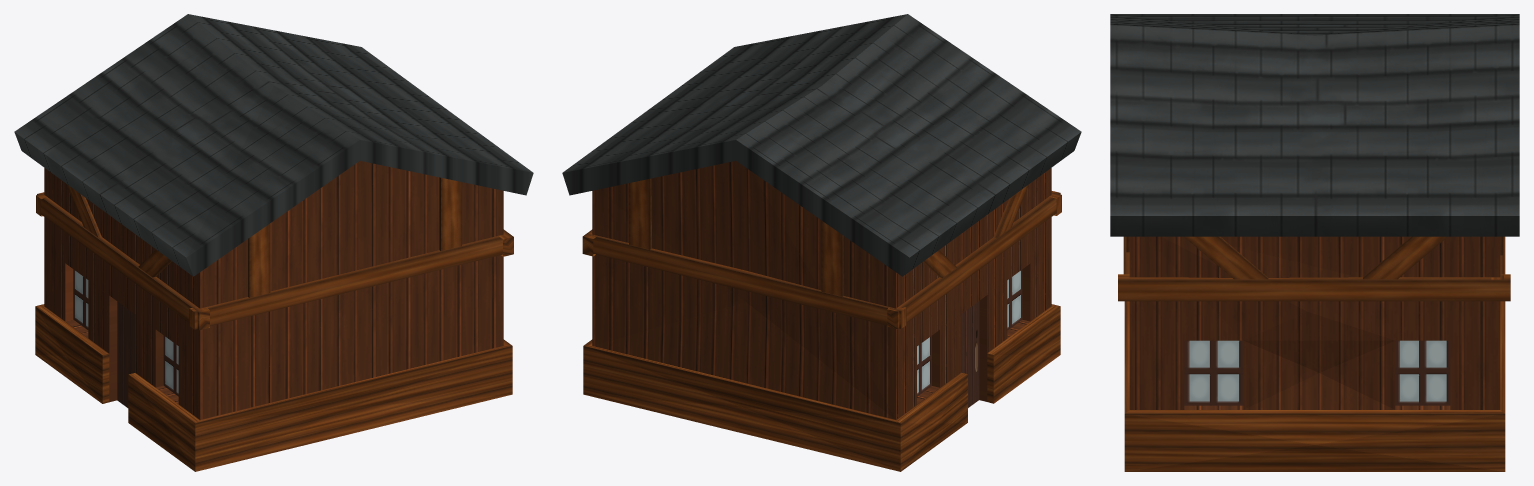
The model's file is co_Building07.fbx.
3 views of the same model, side by side, from view 1: azimuth 30°, elevation 25°; view 2: azimuth 150°, elevation 25°; view 3: azimuth 270°, elevation 25° (orthographic). The views are drawn at different scales.
Visible parts, largest first — view 1: Building07; view 2: Building07; view 3: Building07.
Part boxes in pixels (<box>): Building07: <box>14,14,533,471</box>; Building07: <box>562,14,1081,471</box>; Building07: <box>1110,14,1519,471</box>.
Size of the model in its own units: 2408 by 1972 by 2064.
